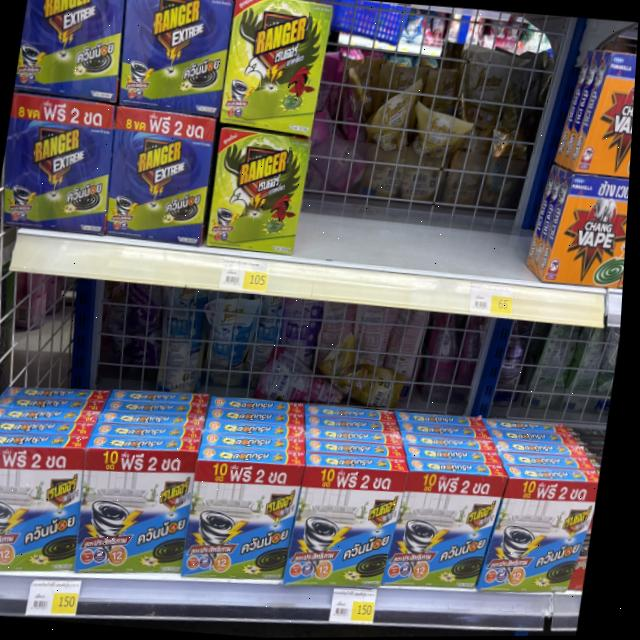empty_shelf: (0, 274, 604, 481), (292, 6, 598, 279)
